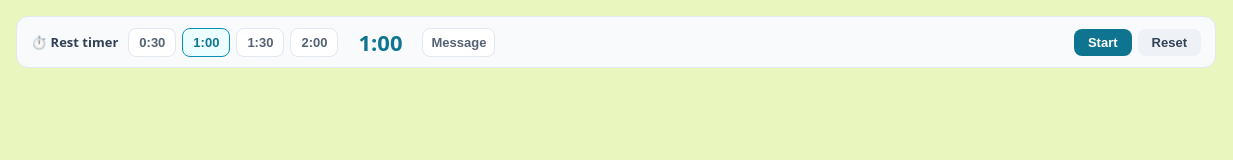
Scenario: RestTimer › resumes from the paused remaining time
Click the button "Start" at (1103, 42), box x1=1074 y1=28 x2=1132 y2=56
Wait 3000 ms
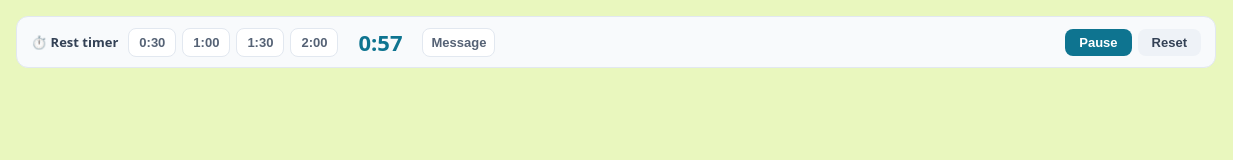
Click the button "Pause" at (1098, 42), box x1=1065 y1=28 x2=1132 y2=56
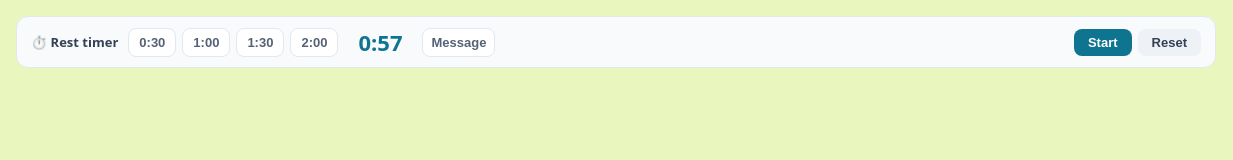
Click the button "Start" at (1103, 42), box x1=1074 y1=28 x2=1132 y2=56
Wait 2000 ms
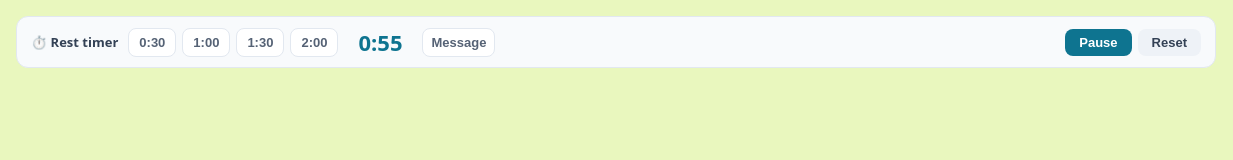
Expected: the text with test id "rest-time" reads "0:55", x1=358 y1=27 x2=402 y2=57
